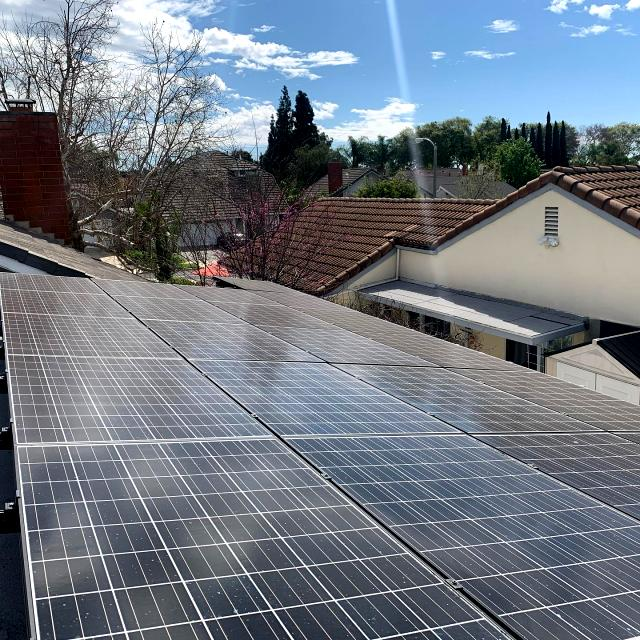dust: (89, 510, 381, 639), (433, 454, 614, 556)
